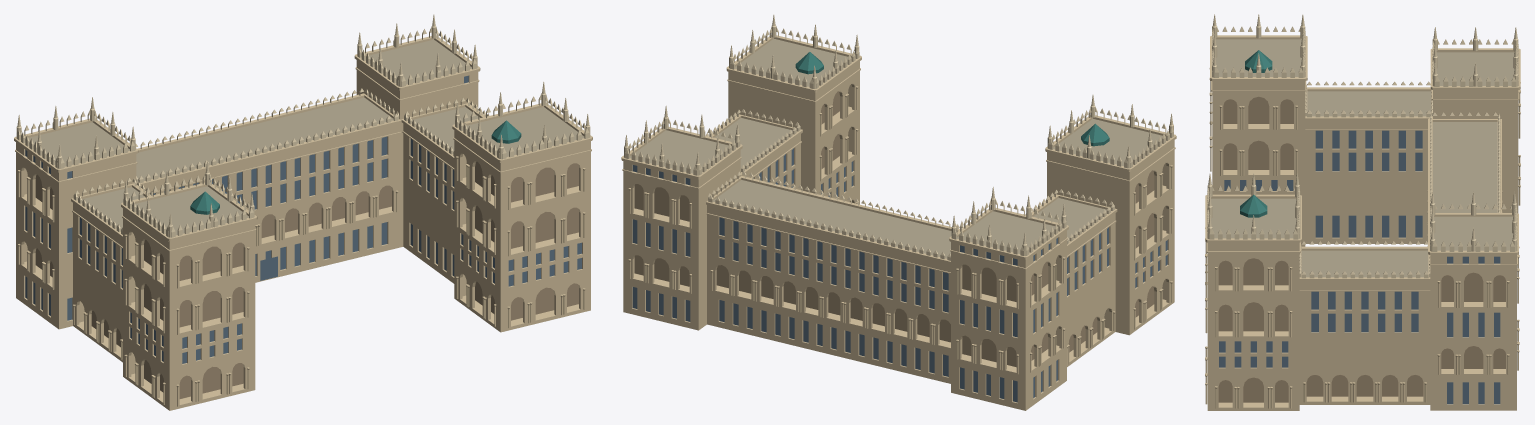
The model's file is baku-government-house.detail.glb.
3 renders of one model, left to right at view 1: azimuth 30°, elevation 25°; view 2: azimuth 150°, elevation 25°; view 3: azimuth 270°, elevation 25°, orthographic. The views are drawn at different scales.
Parts seen in each view (by area): view 1: Government House; view 2: Government House; view 3: Government House.
Part boxes in pixels (left/top/right/bottom): Government House: left=14, top=14, right=592, bottom=410; Government House: left=621, top=14, right=1176, bottom=410; Government House: left=1205, top=14, right=1520, bottom=410.
Bounding box in the file's own units: 105 × 46.6 × 68.35.
